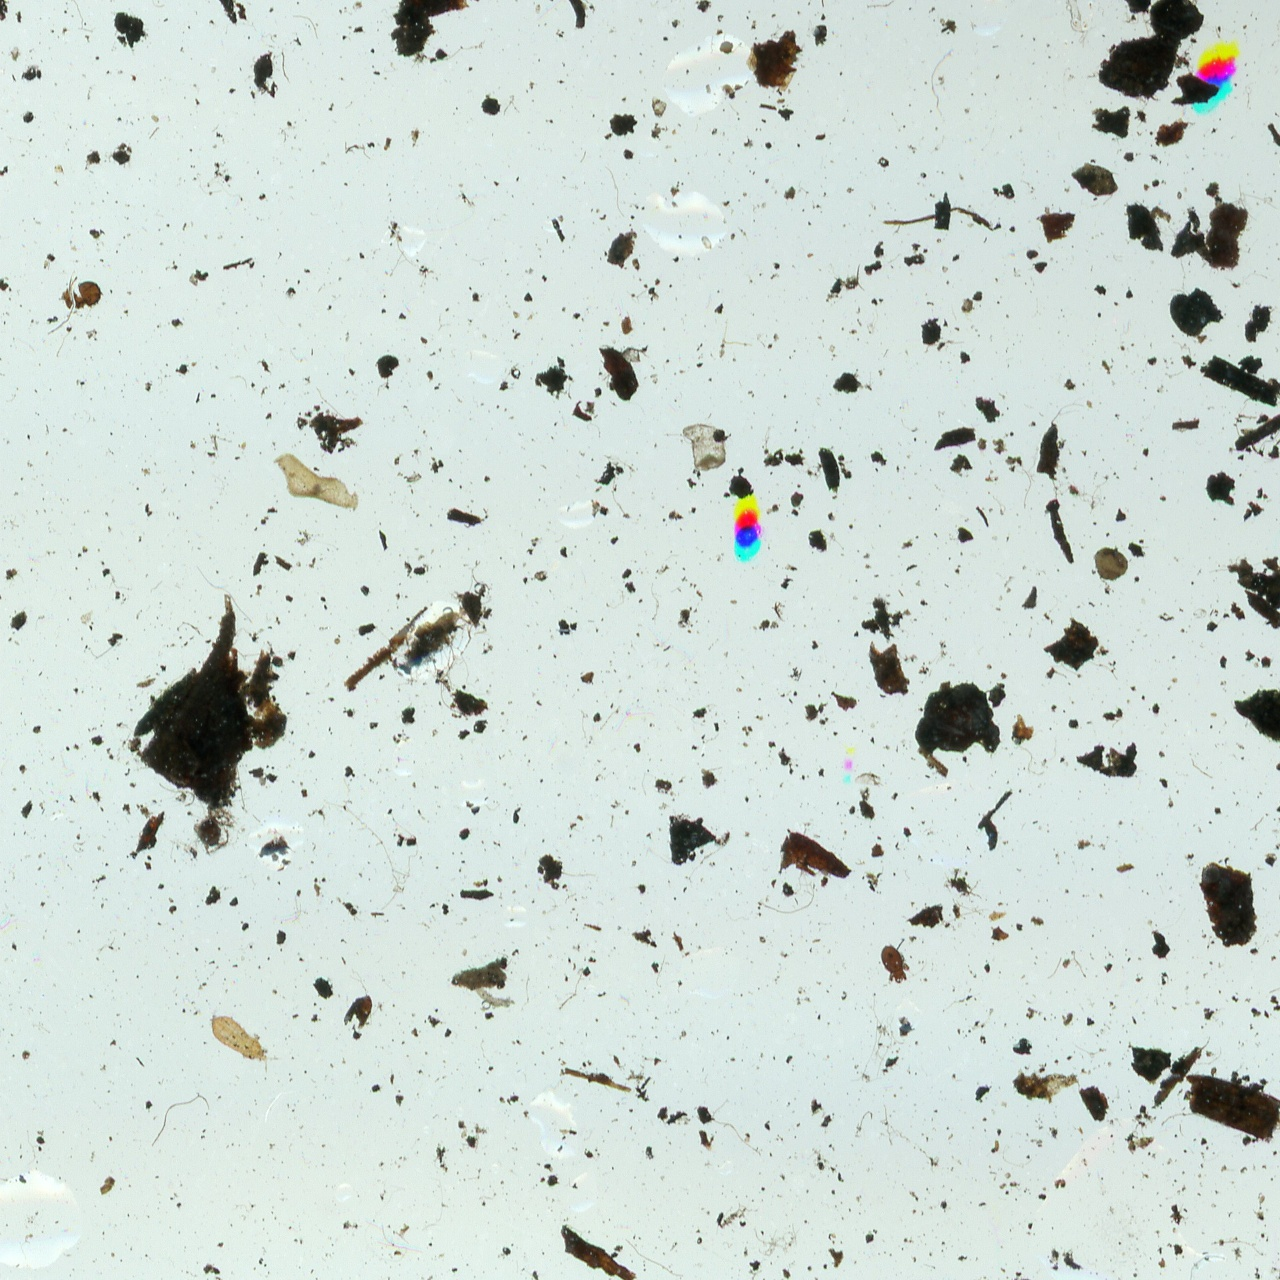arthropod: (197, 1002, 288, 1084)
